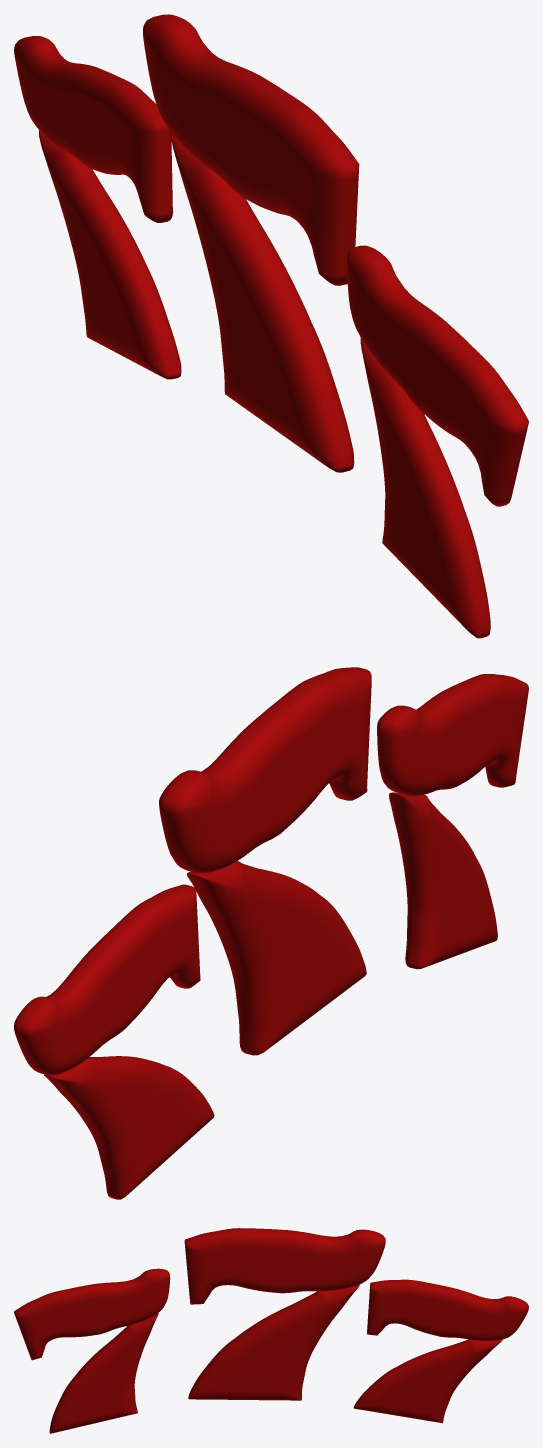
3 renders of one model, top to bottom at view 1: azimuth 30°, elevation 25°; view 2: azimuth 150°, elevation 25°; view 3: azimuth 270°, elevation 25°, orthographic. The views are drawn at different scales.
Parts seen in each view (by area): view 1: GameObject777, GameObject777.001, GameObject777.002; view 2: GameObject777, GameObject777.002, GameObject777.001; view 3: GameObject777, GameObject777.001, GameObject777.002.
Boxes of the visible parts, x1,y1,x2,y2 form: GameObject777: [143, 14, 359, 472]; GameObject777.001: [347, 245, 528, 638]; GameObject777.002: [14, 36, 181, 379]; GameObject777: [159, 667, 371, 1055]; GameObject777.002: [14, 884, 214, 1199]; GameObject777.001: [377, 674, 528, 969]; GameObject777: [184, 1228, 385, 1400]; GameObject777.001: [14, 1268, 170, 1433]; GameObject777.002: [353, 1279, 528, 1423].
Size of the model in its own units: 11.37 by 88.02 by 203.
